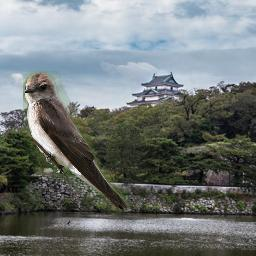Swallow: (23, 71, 131, 213)
